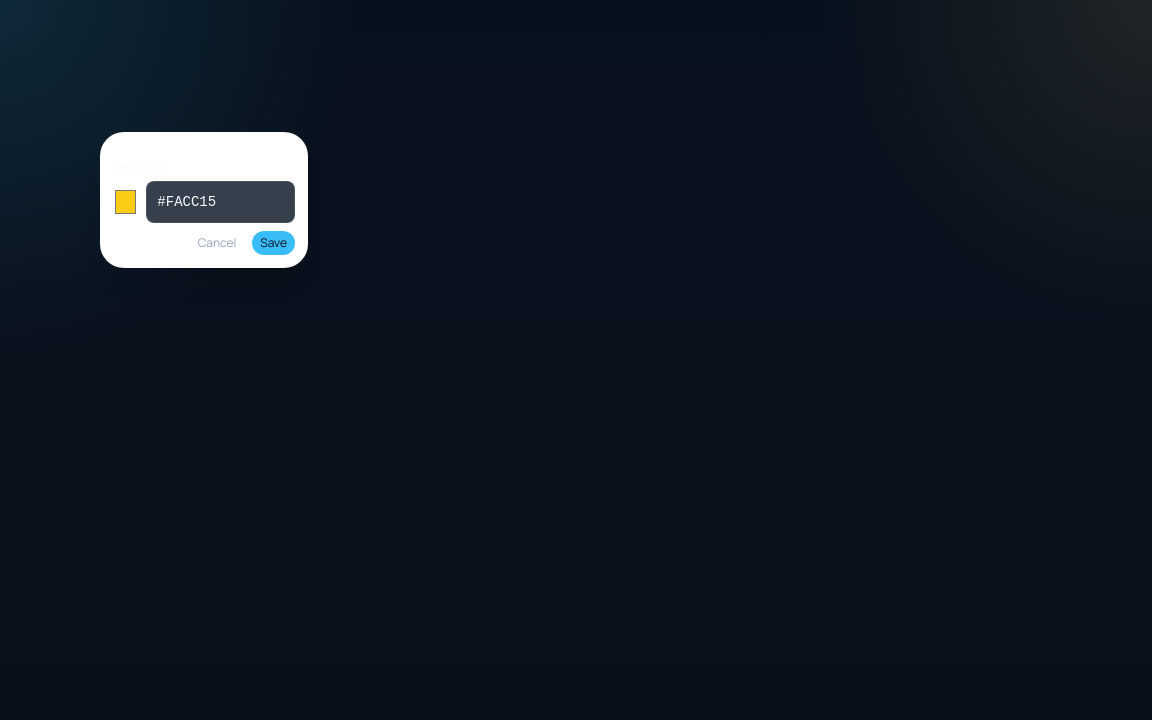
ColorPickerPopover › disables save for invalid hex
Replace the text in the field labelled "Hex color" with "#GGGGGG" at (221, 202), box [146,181,295,223]
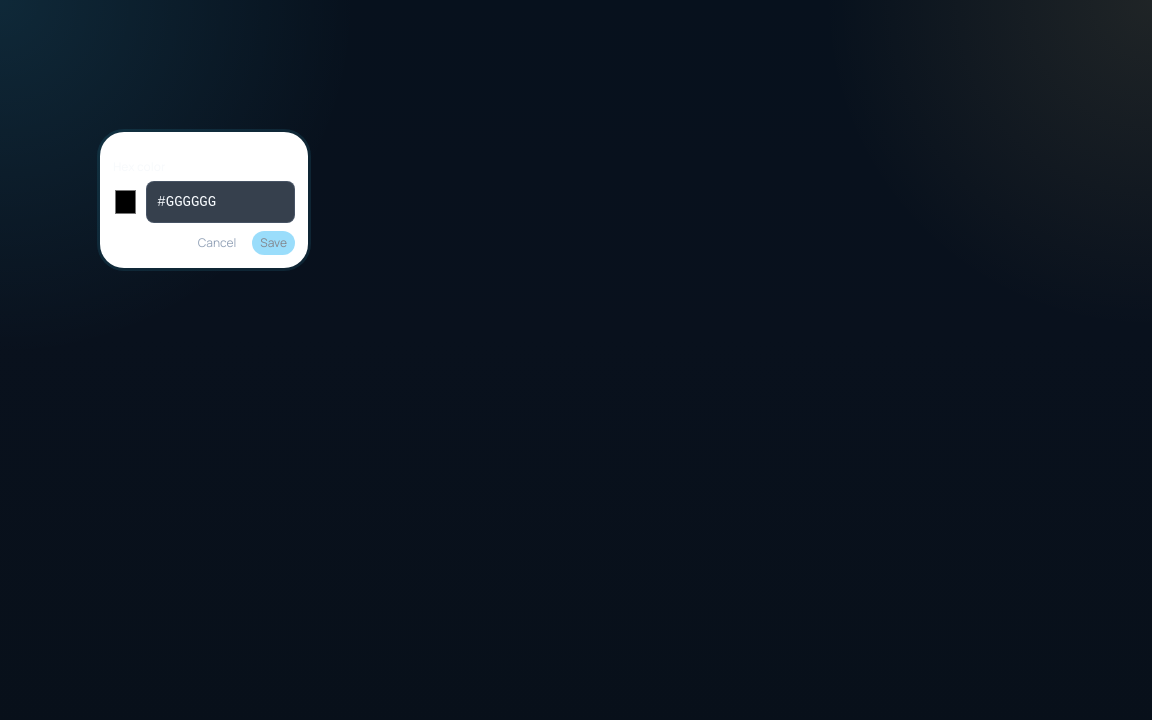
Result: the button "Save" is disabled at [252,231,295,255]
